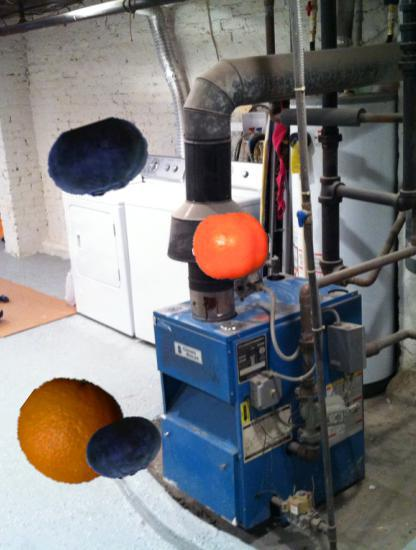Blueberry: (46, 107, 151, 212), (85, 409, 164, 488)
Clementine: (192, 208, 270, 286)
Orange: (17, 376, 127, 486)
